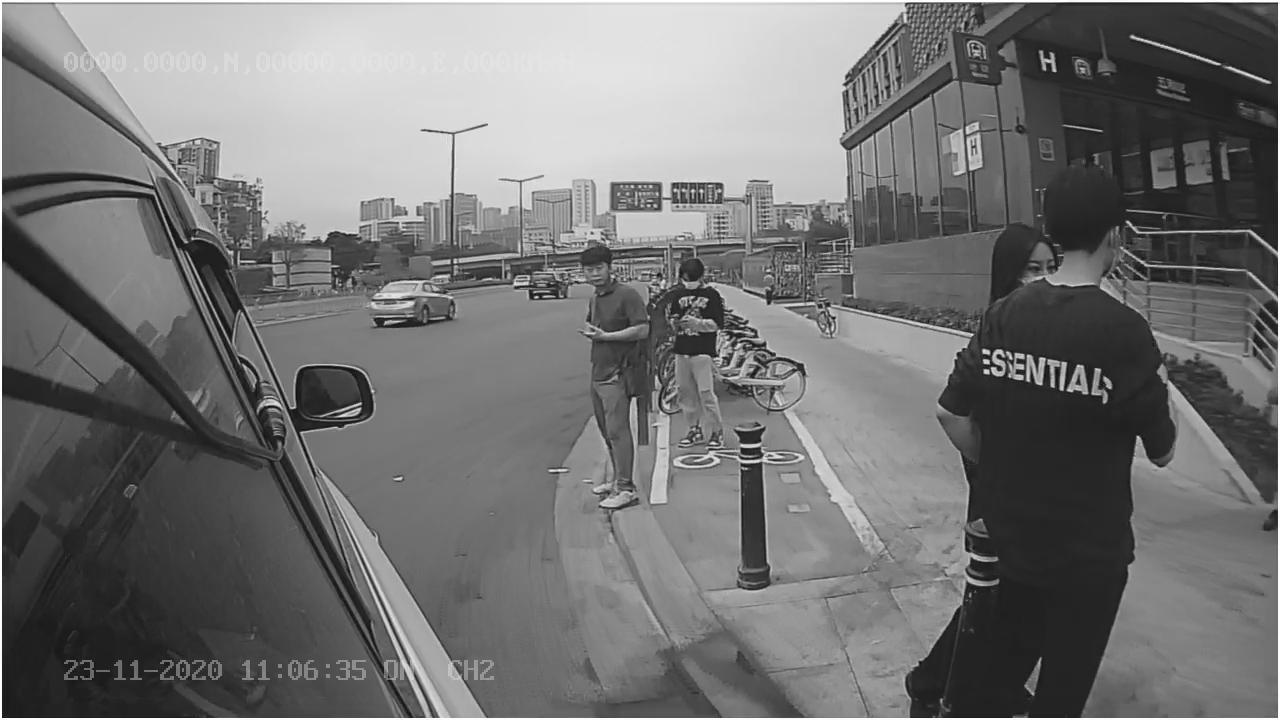person: (569, 240, 648, 507)
